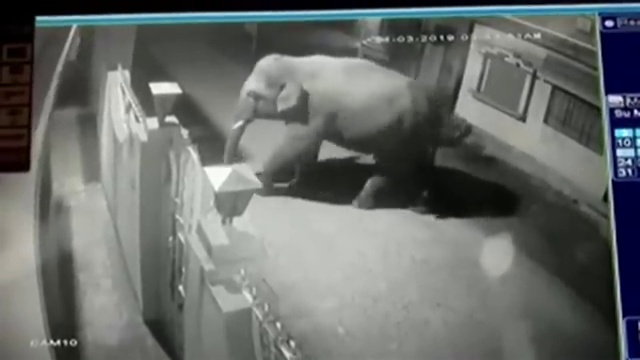Elephant: (224, 53, 438, 214)
